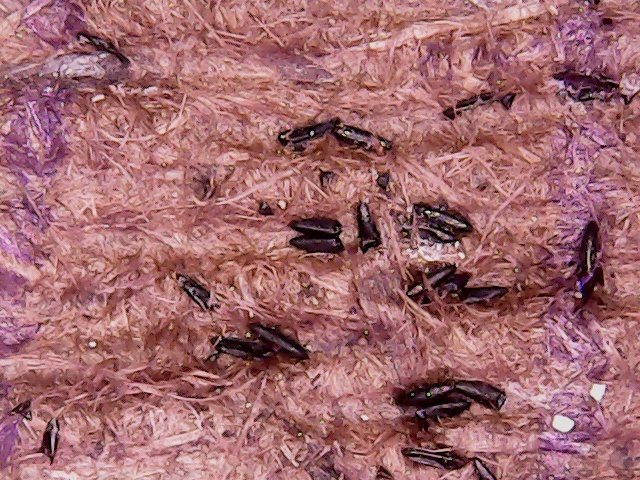full: (396, 439, 473, 476), (415, 193, 478, 238), (331, 121, 400, 161), (273, 109, 336, 152), (250, 319, 311, 360), (447, 87, 516, 123), (173, 271, 223, 316), (444, 281, 521, 309), (448, 381, 515, 412), (351, 200, 386, 257), (212, 335, 268, 370), (279, 233, 355, 258), (576, 221, 607, 280), (399, 260, 456, 292), (400, 374, 454, 401), (288, 213, 344, 237)
